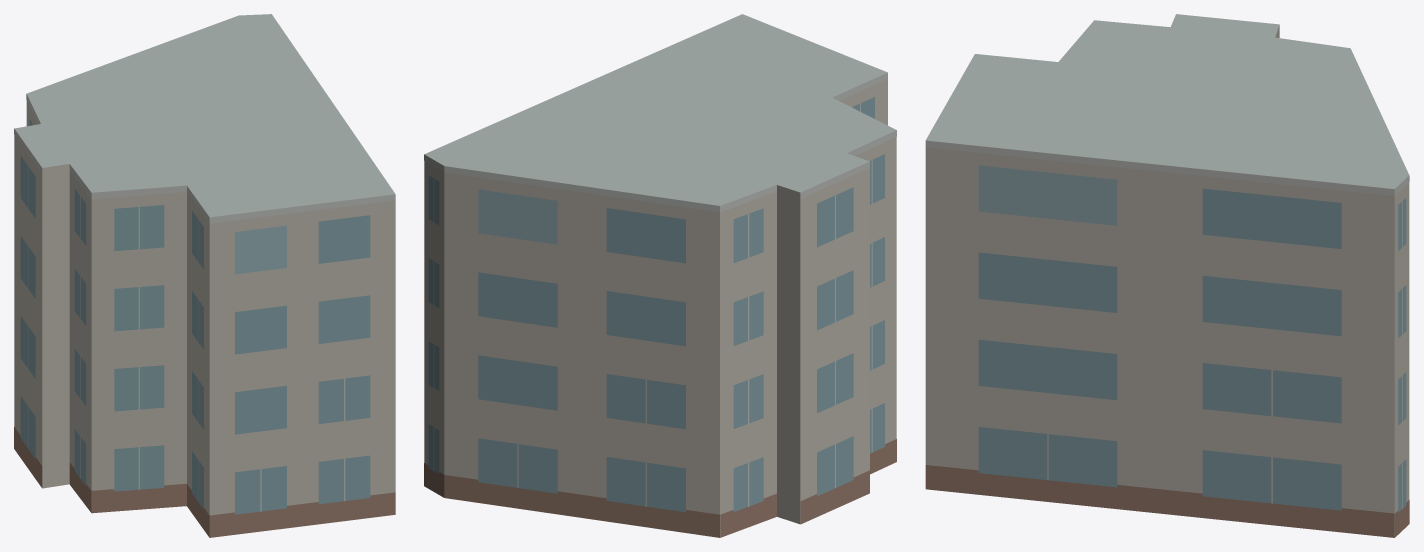
Rendered from survey-upis-33032611.glb.
3 renders of one model, left to right at view 1: azimuth 30°, elevation 25°; view 2: azimuth 150°, elevation 25°; view 3: azimuth 270°, elevation 25°, orthographic. The views are drawn at different scales.
Visible parts, largest first — view 1: survey-upis-33032611.tmp; view 2: survey-upis-33032611.tmp; view 3: survey-upis-33032611.tmp.
Part boxes in pixels (x1,y1,x2,y2): survey-upis-33032611.tmp: [14, 14, 395, 537]; survey-upis-33032611.tmp: [424, 14, 896, 537]; survey-upis-33032611.tmp: [925, 14, 1409, 537].
Bounding box in the file's own units: 13.47 × 12.5 × 15.73.
